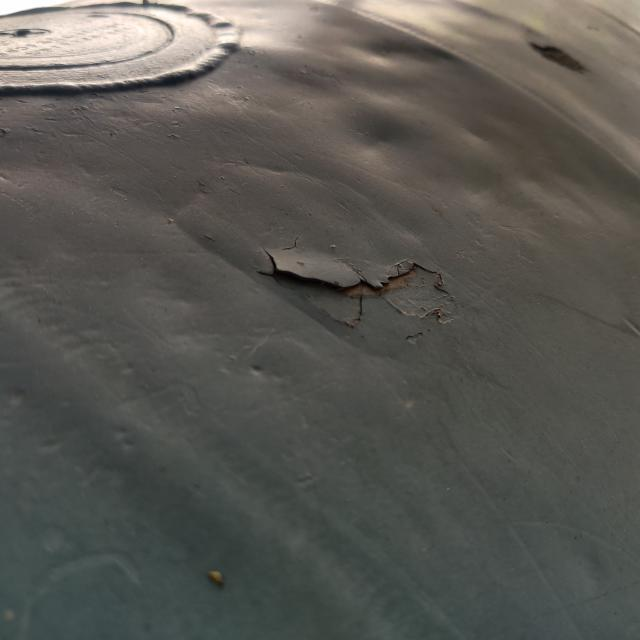crack: (241, 231, 463, 329)
dent: (324, 90, 446, 184), (342, 15, 470, 86)
